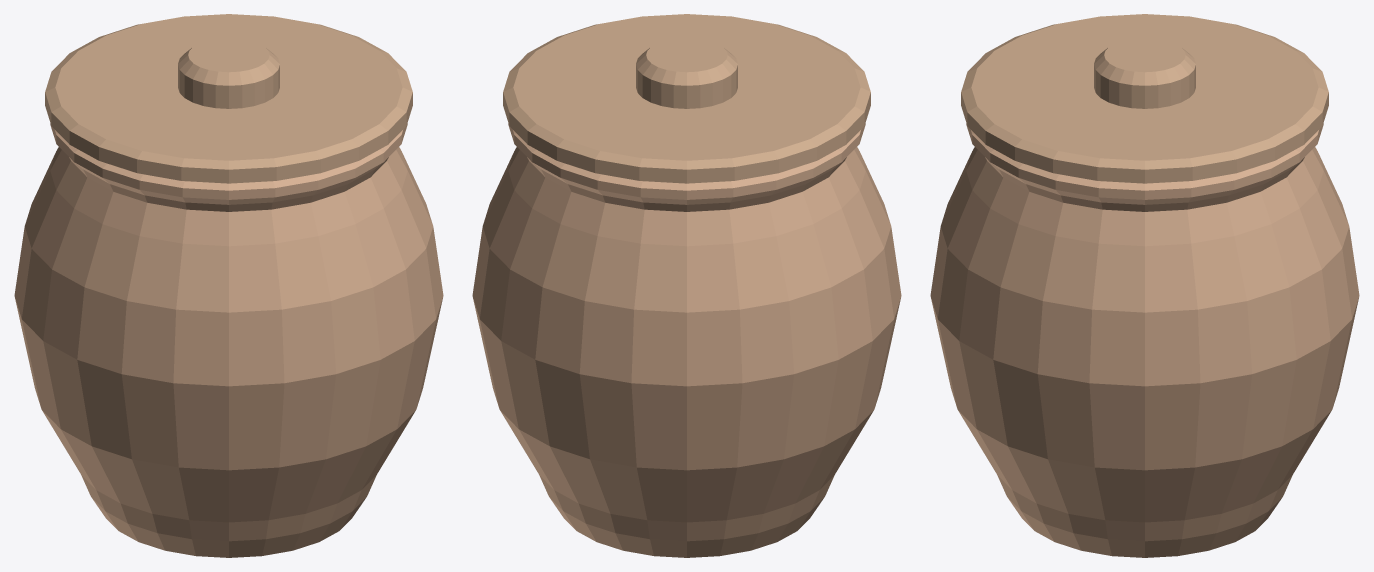
Rendered from PCP_ClayVessel.fbx.
3 renders of one model, left to right at view 1: azimuth 30°, elevation 25°; view 2: azimuth 150°, elevation 25°; view 3: azimuth 270°, elevation 25°, orthographic.
Parts seen in each view (by area): view 1: PCP_ClayVessel; view 2: PCP_ClayVessel; view 3: PCP_ClayVessel.
Part boxes in pixels (x1,y1,x2,y2): PCP_ClayVessel: (14, 14, 443, 557); PCP_ClayVessel: (472, 14, 901, 557); PCP_ClayVessel: (930, 14, 1359, 557).
Size of the model in its own units: 0.084 by 0.097 by 0.084.
